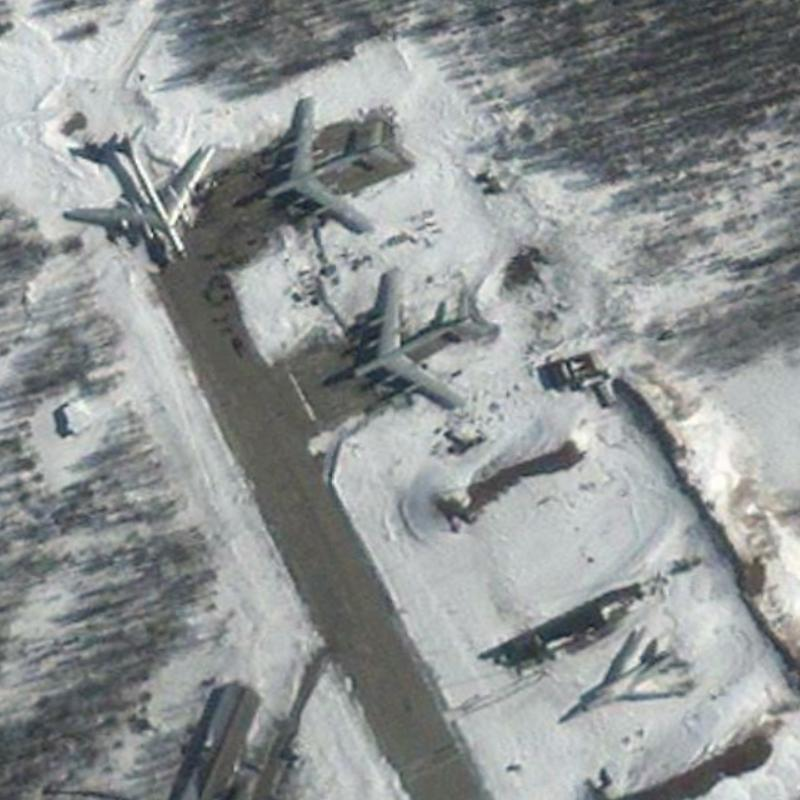A12: (553, 621, 698, 728)
A17: (333, 264, 498, 416), (57, 119, 221, 266), (247, 92, 405, 238)
